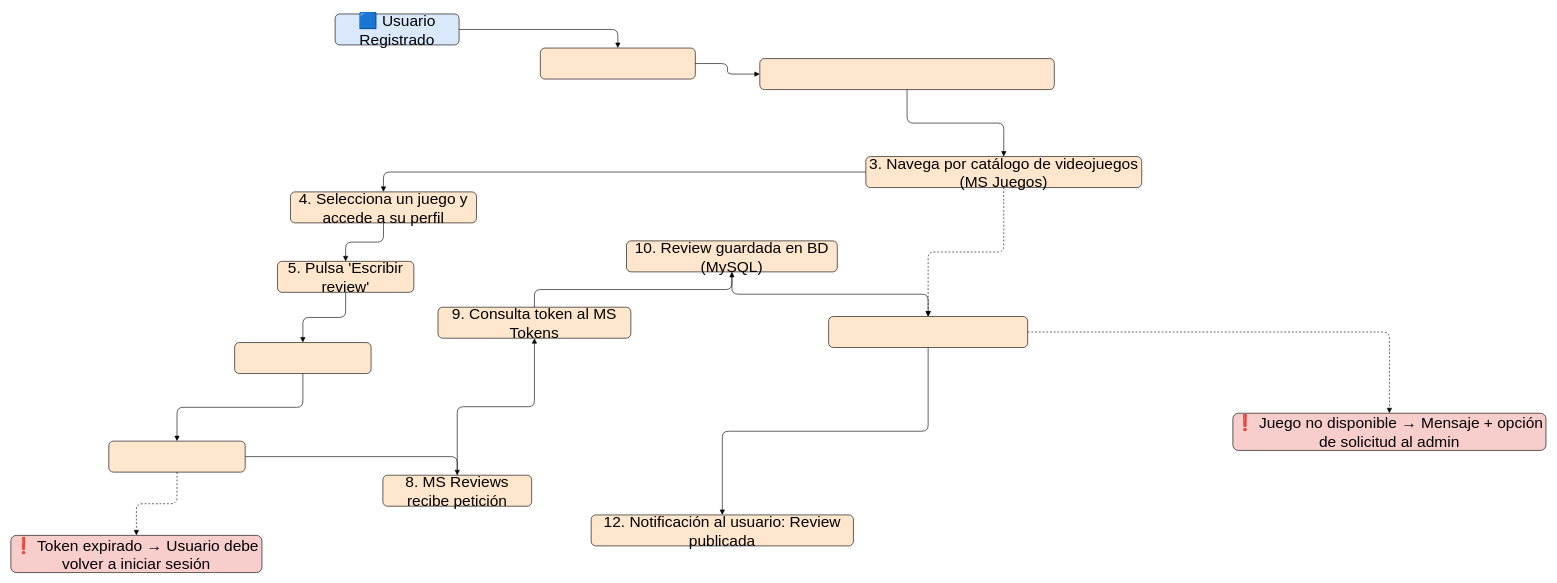
The diagram is 1557 pixels wide and 583 high, and some of its shapes have lost their labels. The shapes that lost their labels are listed below. From the top down, each one's centre as x and y in pixels, then its label:
At [617,63]: "1. Inicia sesión en GameRatings".
At [906,74]: "2. Sistema autentica y entrega token (MS Tokens)".
At [928,332]: "11. Se actualiza media de puntuación".
At [302,358]: "6. Sistema muestra formulario".
At [176,456]: "7. Usuario completa y envía".
